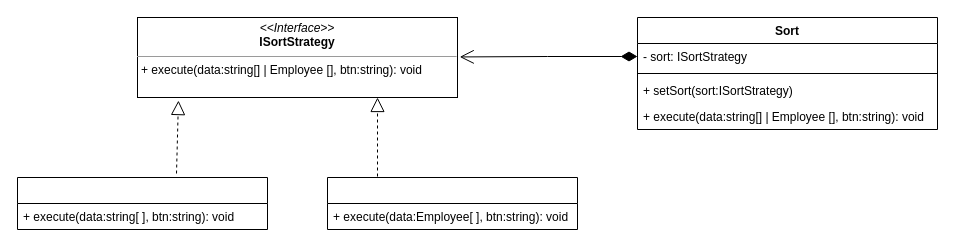
This 955x250 diagram has some shape labels left out. The shapes that lost their labels are listed below. From the top down, each one's box as (x1, y1, x2, y2) in pixels, then its label:
(16, 176, 268, 230): BaseSort
(326, 176, 578, 230): EmployeeSort
